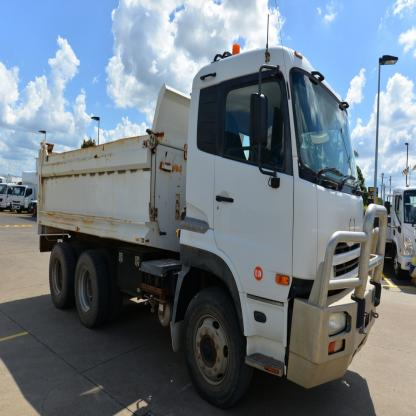dump_truck: (30, 36, 386, 410)
